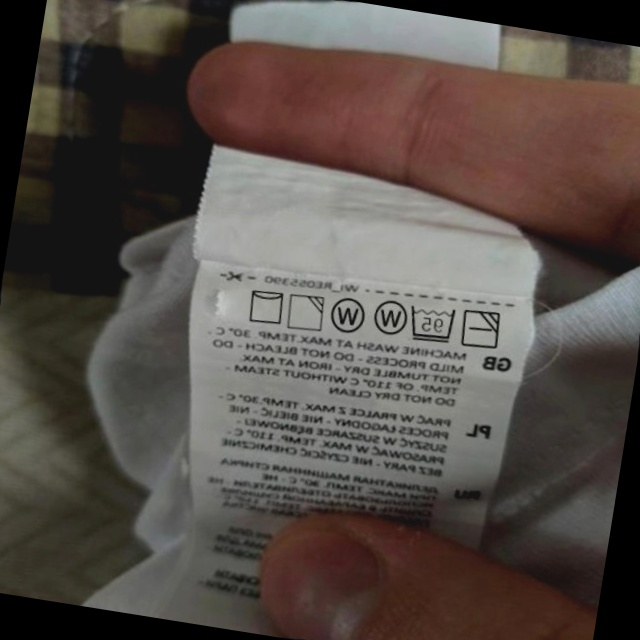95C: (404, 299, 460, 347)
dry_flat_in_shade: (457, 303, 506, 354)
line_dry: (242, 283, 289, 329)
shade_dry: (282, 288, 329, 336)
wet_clean: (367, 292, 411, 340), (325, 293, 370, 339)
